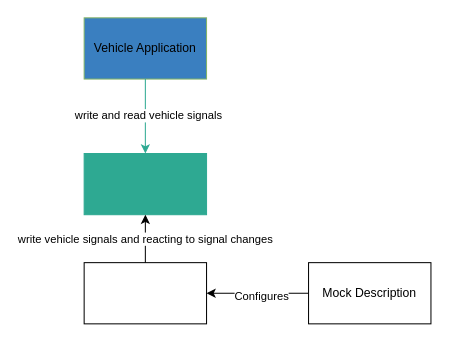
Image size: 449x342. Some labels were removed from this diagram. Each missing label, with the centre of its shape:
"Kuksa.val Databroker" goes at (x=145, y=183).
"Vehicle Mock Service" goes at (x=145, y=293).
